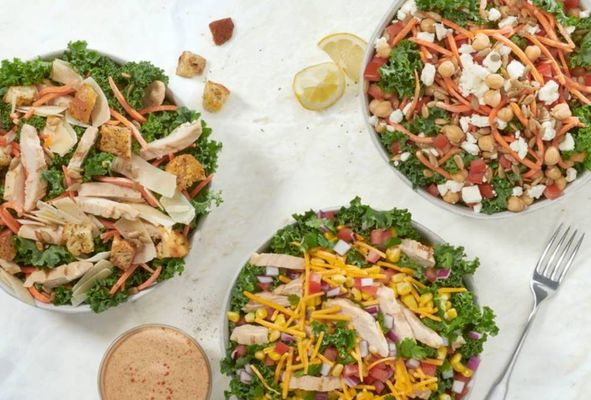burger: (482, 222, 585, 398)
curry: (58, 40, 168, 109), (333, 196, 415, 241), (377, 40, 424, 100), (0, 57, 53, 89), (81, 148, 117, 182)
sushi: (0, 42, 226, 316), (357, 0, 591, 223), (97, 323, 212, 399)
